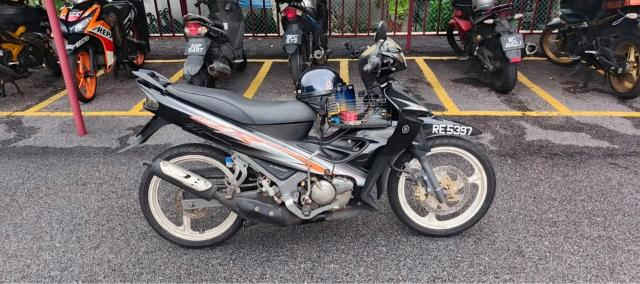License_Plate: (430, 122, 476, 141), (503, 36, 525, 50), (186, 44, 207, 56), (285, 34, 301, 46)
motorcycle: (118, 21, 498, 249), (540, 2, 640, 101), (55, 1, 149, 103), (448, 1, 529, 93), (182, 1, 248, 89), (275, 1, 333, 87)
